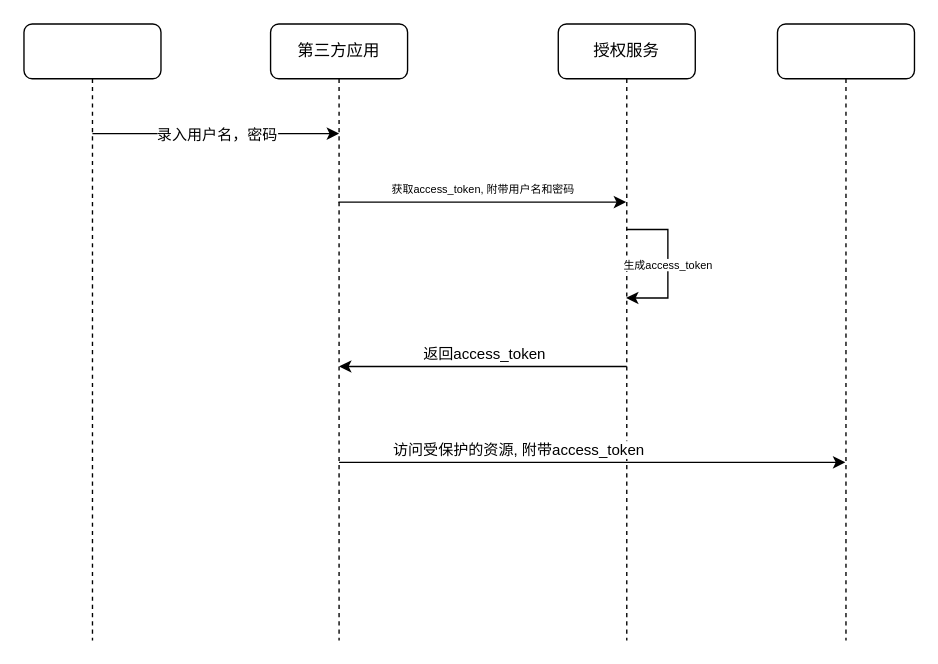
This 938x664 diagram has some shape labels left out. Each missing label, with the box of its shape:
受保护的资源: (776, 23, 914, 640)
用户(资源拥有者): (23, 23, 161, 640)
